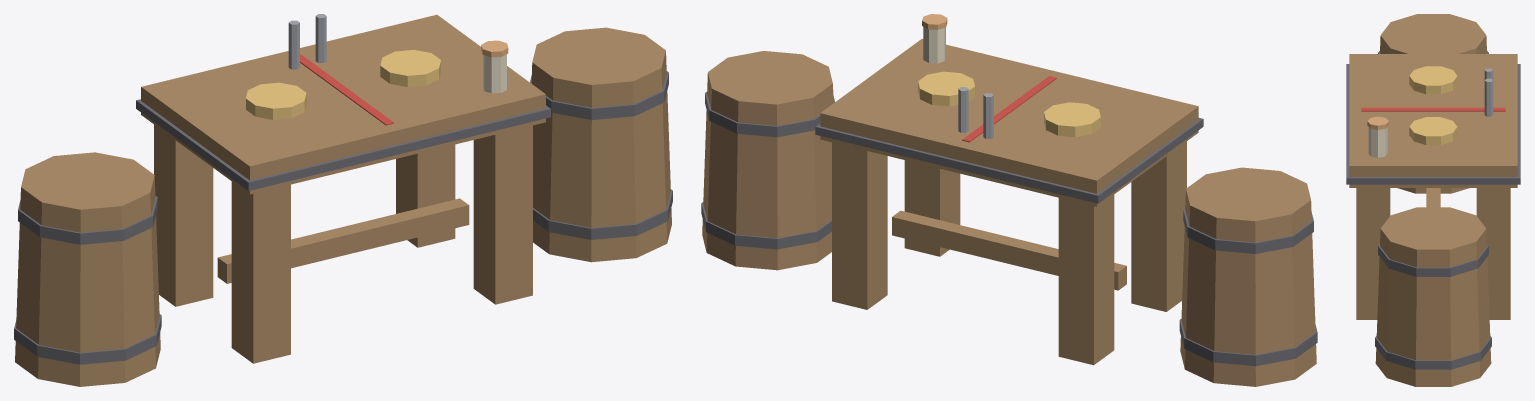
File: armwrestle_table.glb
3 views of the same model, side by side, from view 1: azimuth 30°, elevation 25°; view 2: azimuth 150°, elevation 25°; view 3: azimuth 270°, elevation 25° (orthographic). The views are drawn at different scales.
Parts seen in each view (by area): view 1: ArmwrestleTable; view 2: ArmwrestleTable; view 3: ArmwrestleTable.
Boxes of the visible parts, bbox=[...] form: ArmwrestleTable: bbox=[14, 14, 672, 386]; ArmwrestleTable: bbox=[701, 14, 1317, 386]; ArmwrestleTable: bbox=[1346, 14, 1520, 386].
Bounding box in the file's own units: 2.36 × 0.88 × 0.724.
